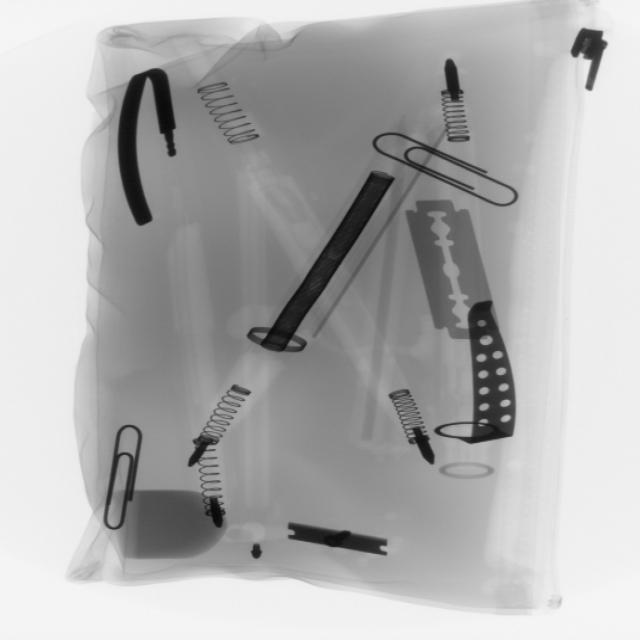BLADE: (399, 187, 502, 351)
